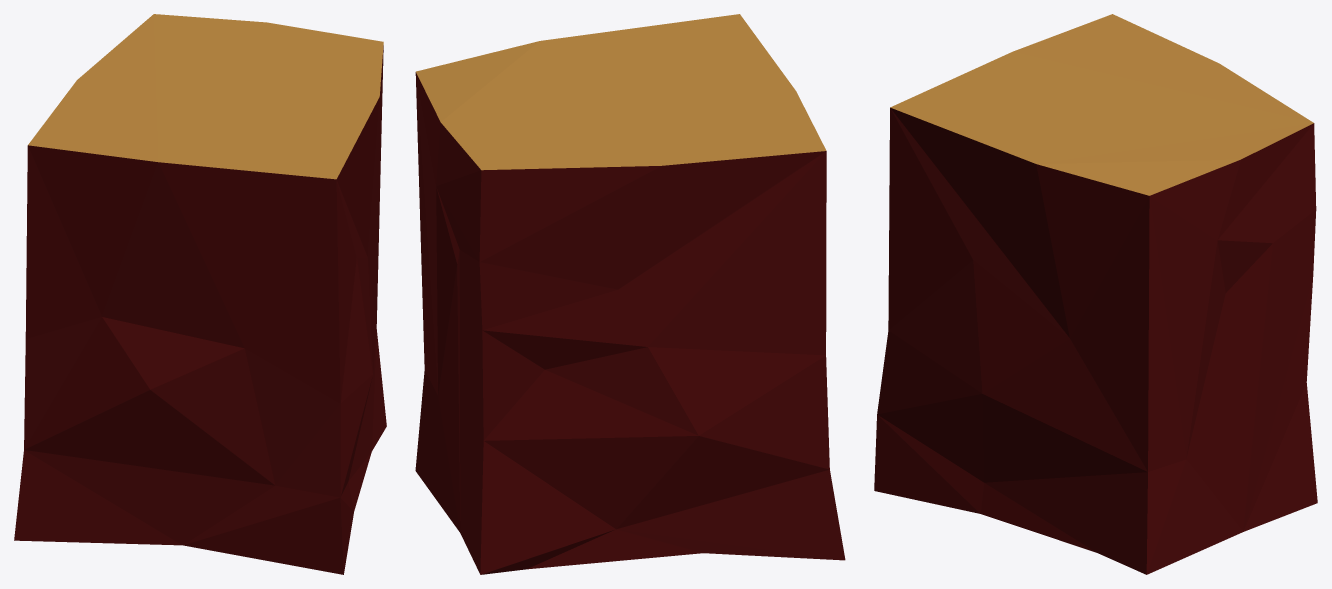
The model's file is modPlat_Wall_Segment_Short_modelled.fbx.
The picture shows the model from 3 angles, left to right: view 1: azimuth 30°, elevation 25°; view 2: azimuth 150°, elevation 25°; view 3: azimuth 270°, elevation 25°; orthographic projection. The views are drawn at different scales.
Parts seen in each view (by area): view 1: modPlat_Wall_Segment_Short_modelled; view 2: modPlat_Wall_Segment_Short_modelled; view 3: modPlat_Wall_Segment_Short_modelled.
Boxes of the visible parts, x1,y1,x2,y2 form: modPlat_Wall_Segment_Short_modelled: (14, 14, 386, 574); modPlat_Wall_Segment_Short_modelled: (415, 14, 845, 574); modPlat_Wall_Segment_Short_modelled: (874, 14, 1317, 574).
Size of the model in its own units: 97.62 by 95.28 by 97.
